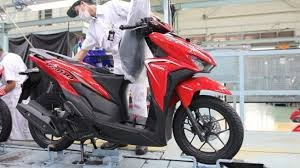motor: (27, 16, 245, 160)
